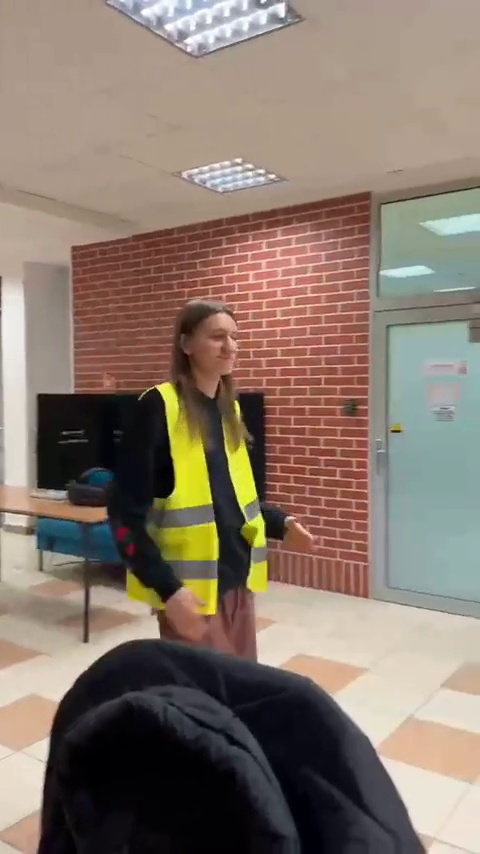vest: (124, 301, 283, 653)
